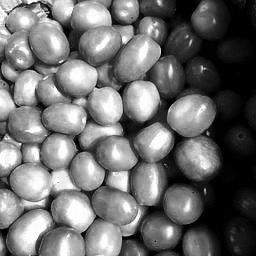bukan telur: (114, 36, 161, 84), (9, 210, 54, 255), (168, 94, 215, 137), (179, 140, 221, 186), (28, 22, 71, 64), (78, 25, 121, 65), (123, 81, 160, 120), (12, 164, 51, 200), (56, 62, 98, 95), (95, 137, 138, 168), (9, 107, 47, 142), (192, 0, 227, 38), (135, 166, 168, 204), (41, 136, 76, 171), (168, 26, 200, 58)
